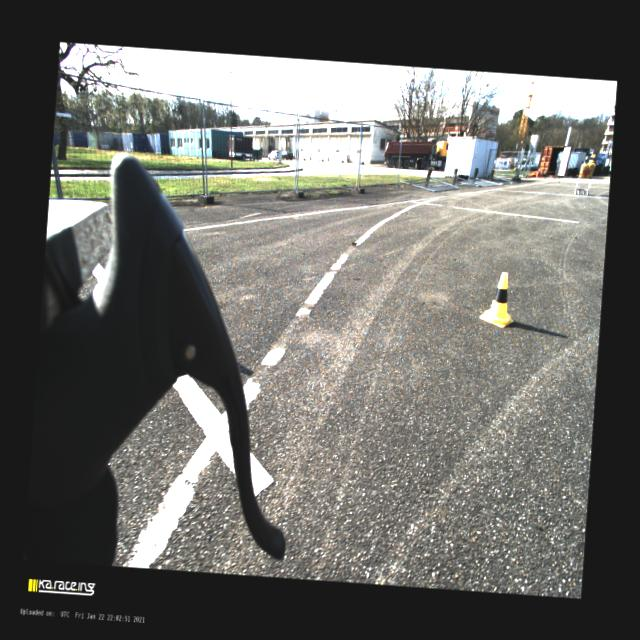yellow_cone: (478, 271, 516, 328), (582, 155, 588, 165), (588, 152, 593, 164), (590, 153, 595, 164)
